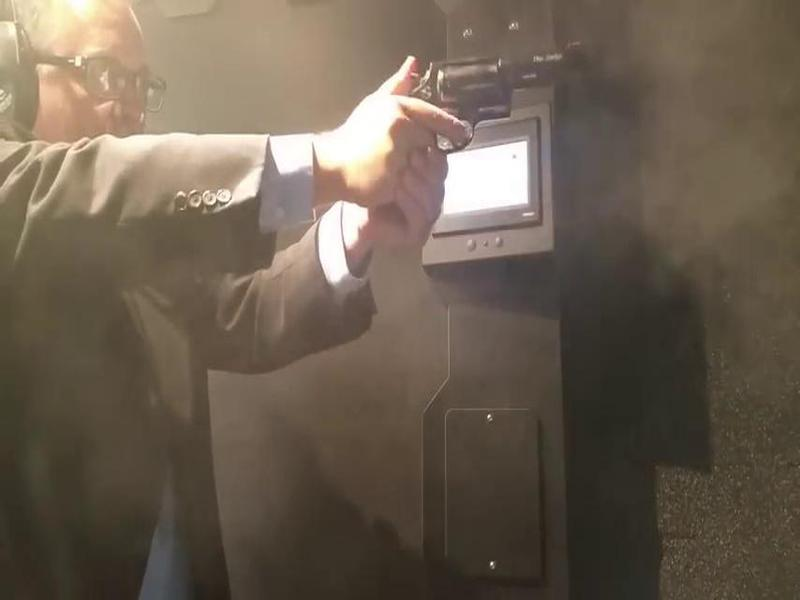Revolver: (397, 28, 611, 144)
